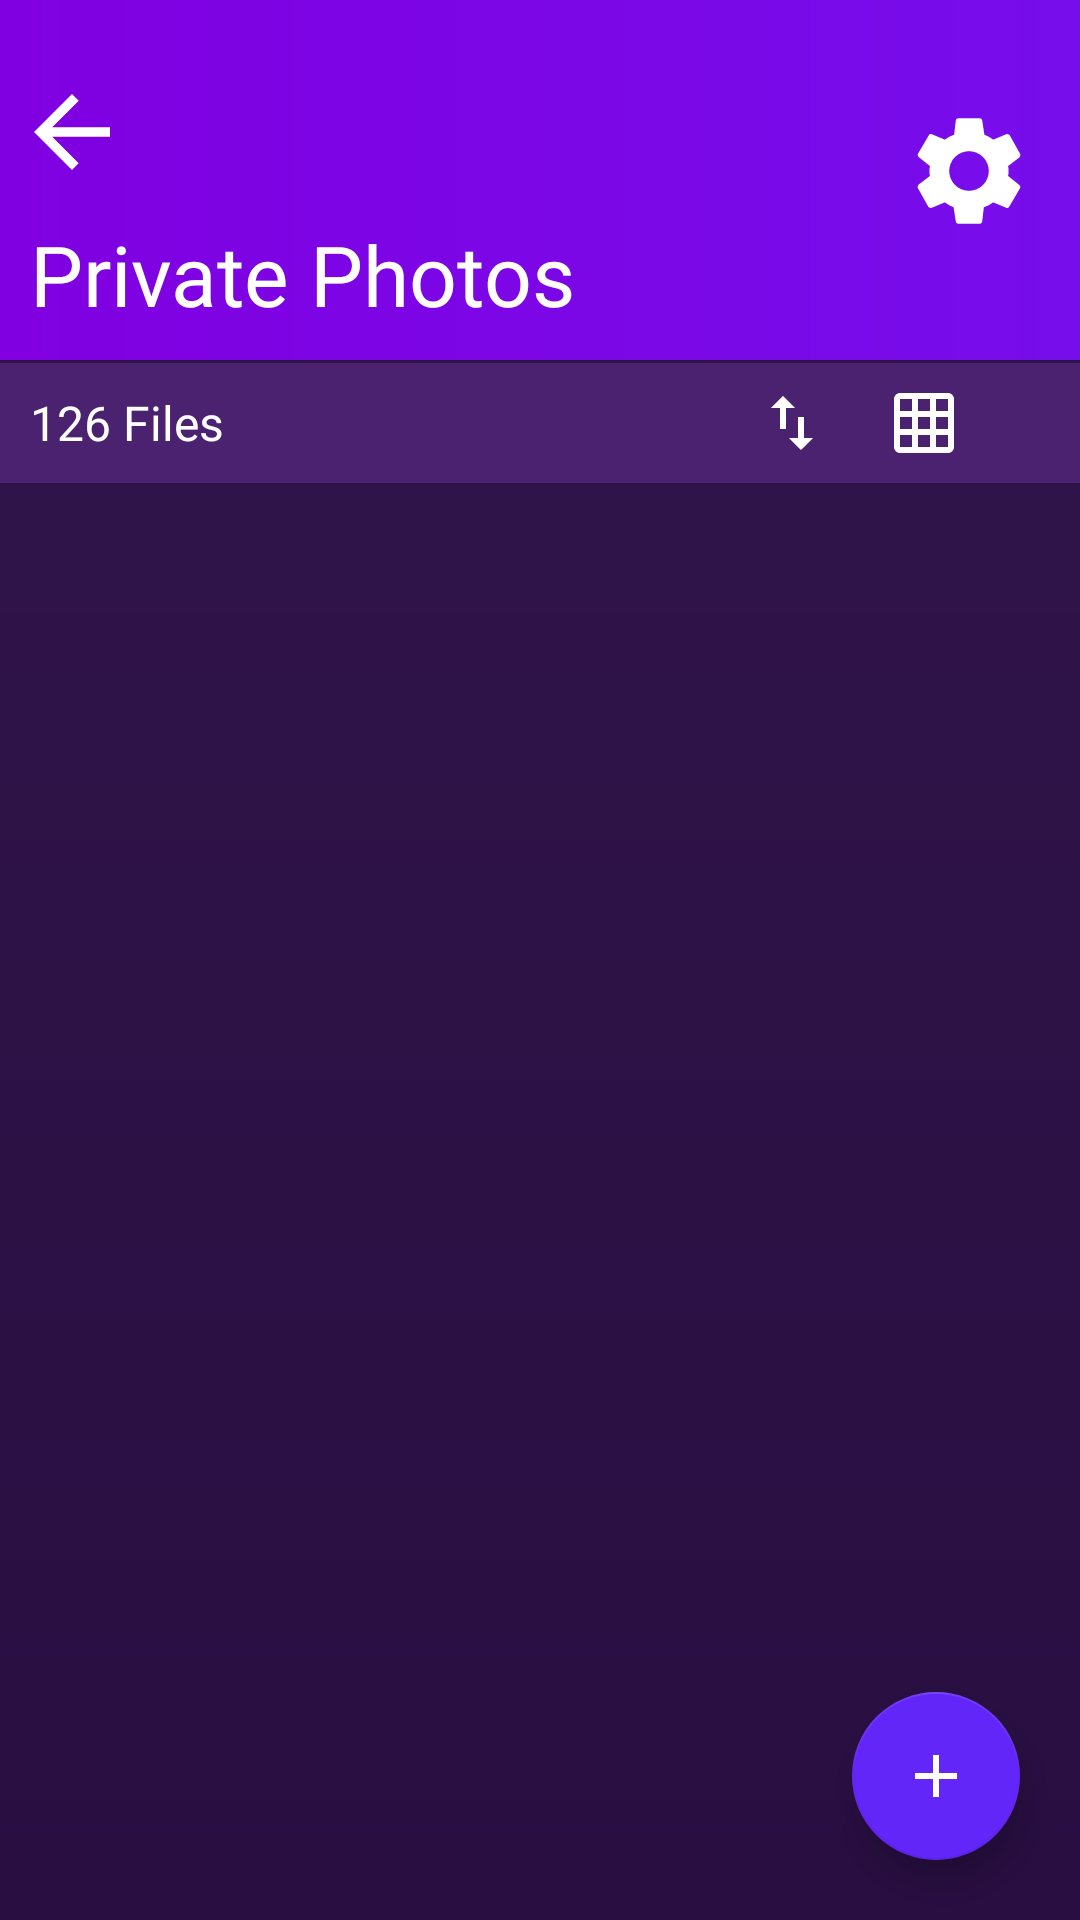

Point at icon controls on the screen. Image size 1080px×1920px, points as (x=x, y=y).
add: (x=936, y=1776)
arrow: (x=72, y=132)
grid: (x=924, y=423)
settings: (x=969, y=171)
swap: (x=792, y=423)
